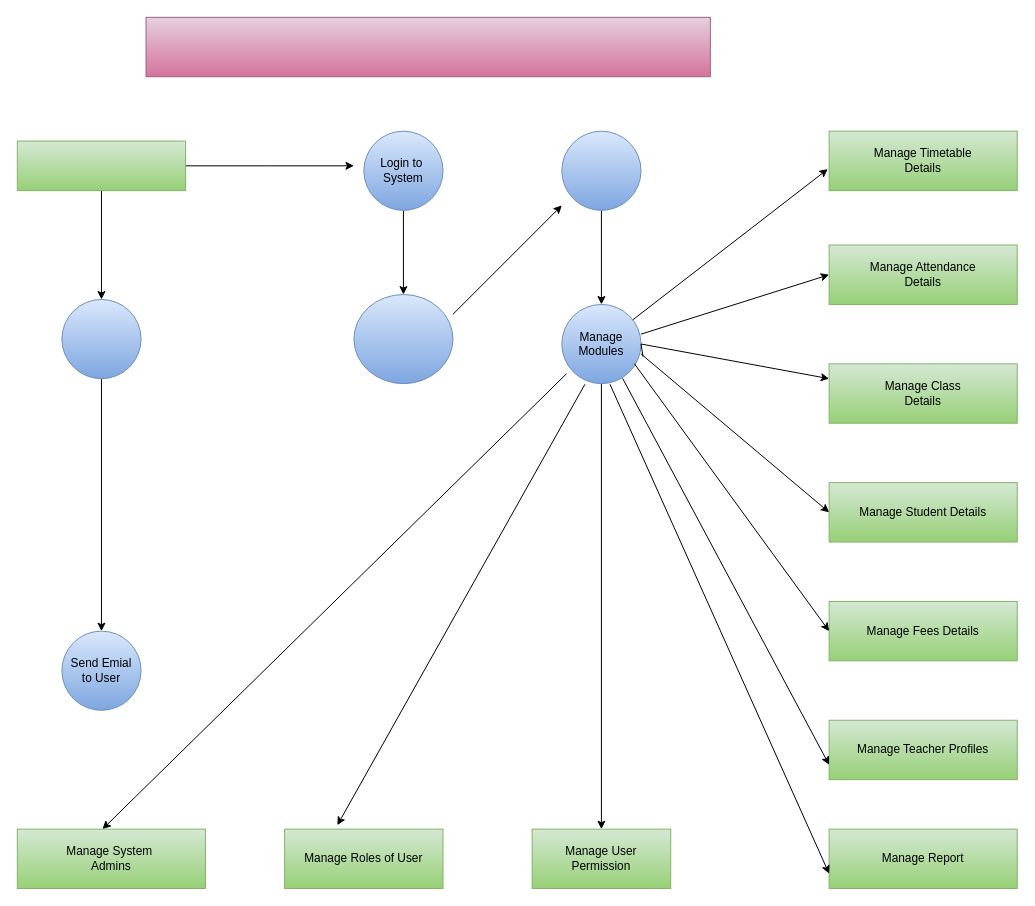
The diagram is 1035 pixels wide and 906 high, and some of its shapes have lost their labels. Each missing label, with the centre of its shape:
Admin: the point at 101,165
Check Credentials: the point at 403,339
Check Roles of Access: the point at 601,170
Forgot Password: the point at 101,338
Student Information System: the point at 427,46
